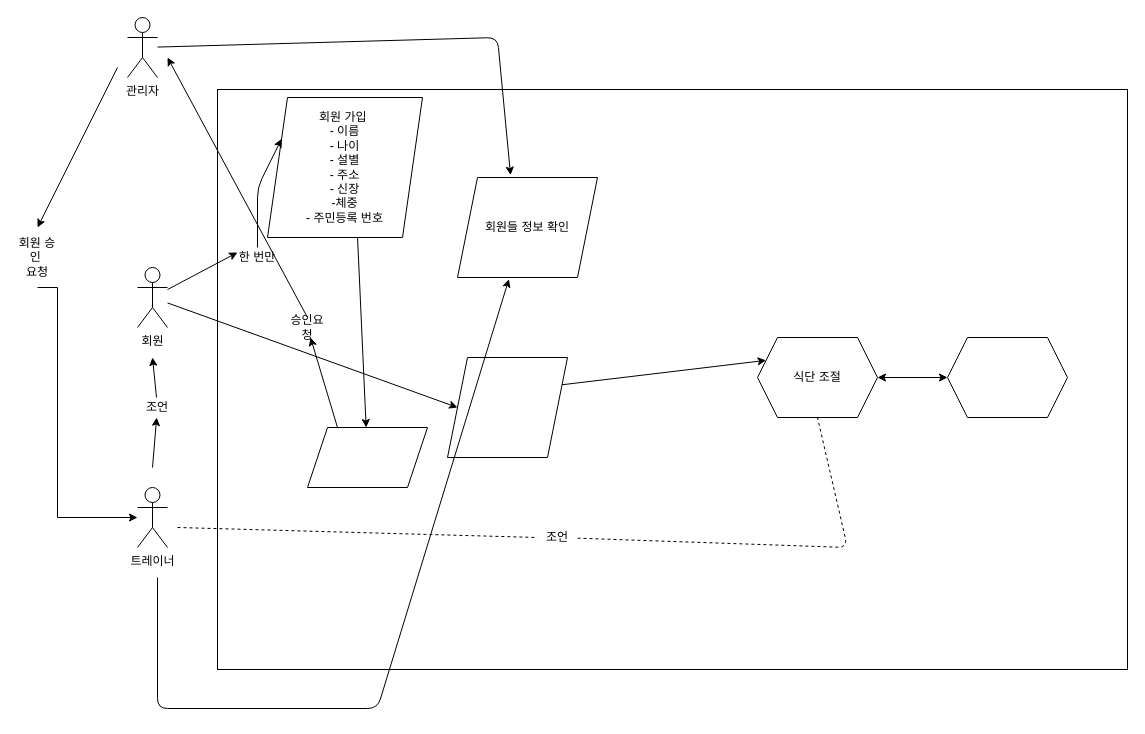
Image size: 1145x734. Some labels were removed from this diagram. The centre of each missing label's shape, as x and y in pixels:
"로그인" belongs at (x=507, y=407).
"운동" belongs at (x=1007, y=377).
"회원 가입 승인" belongs at (x=367, y=457).
